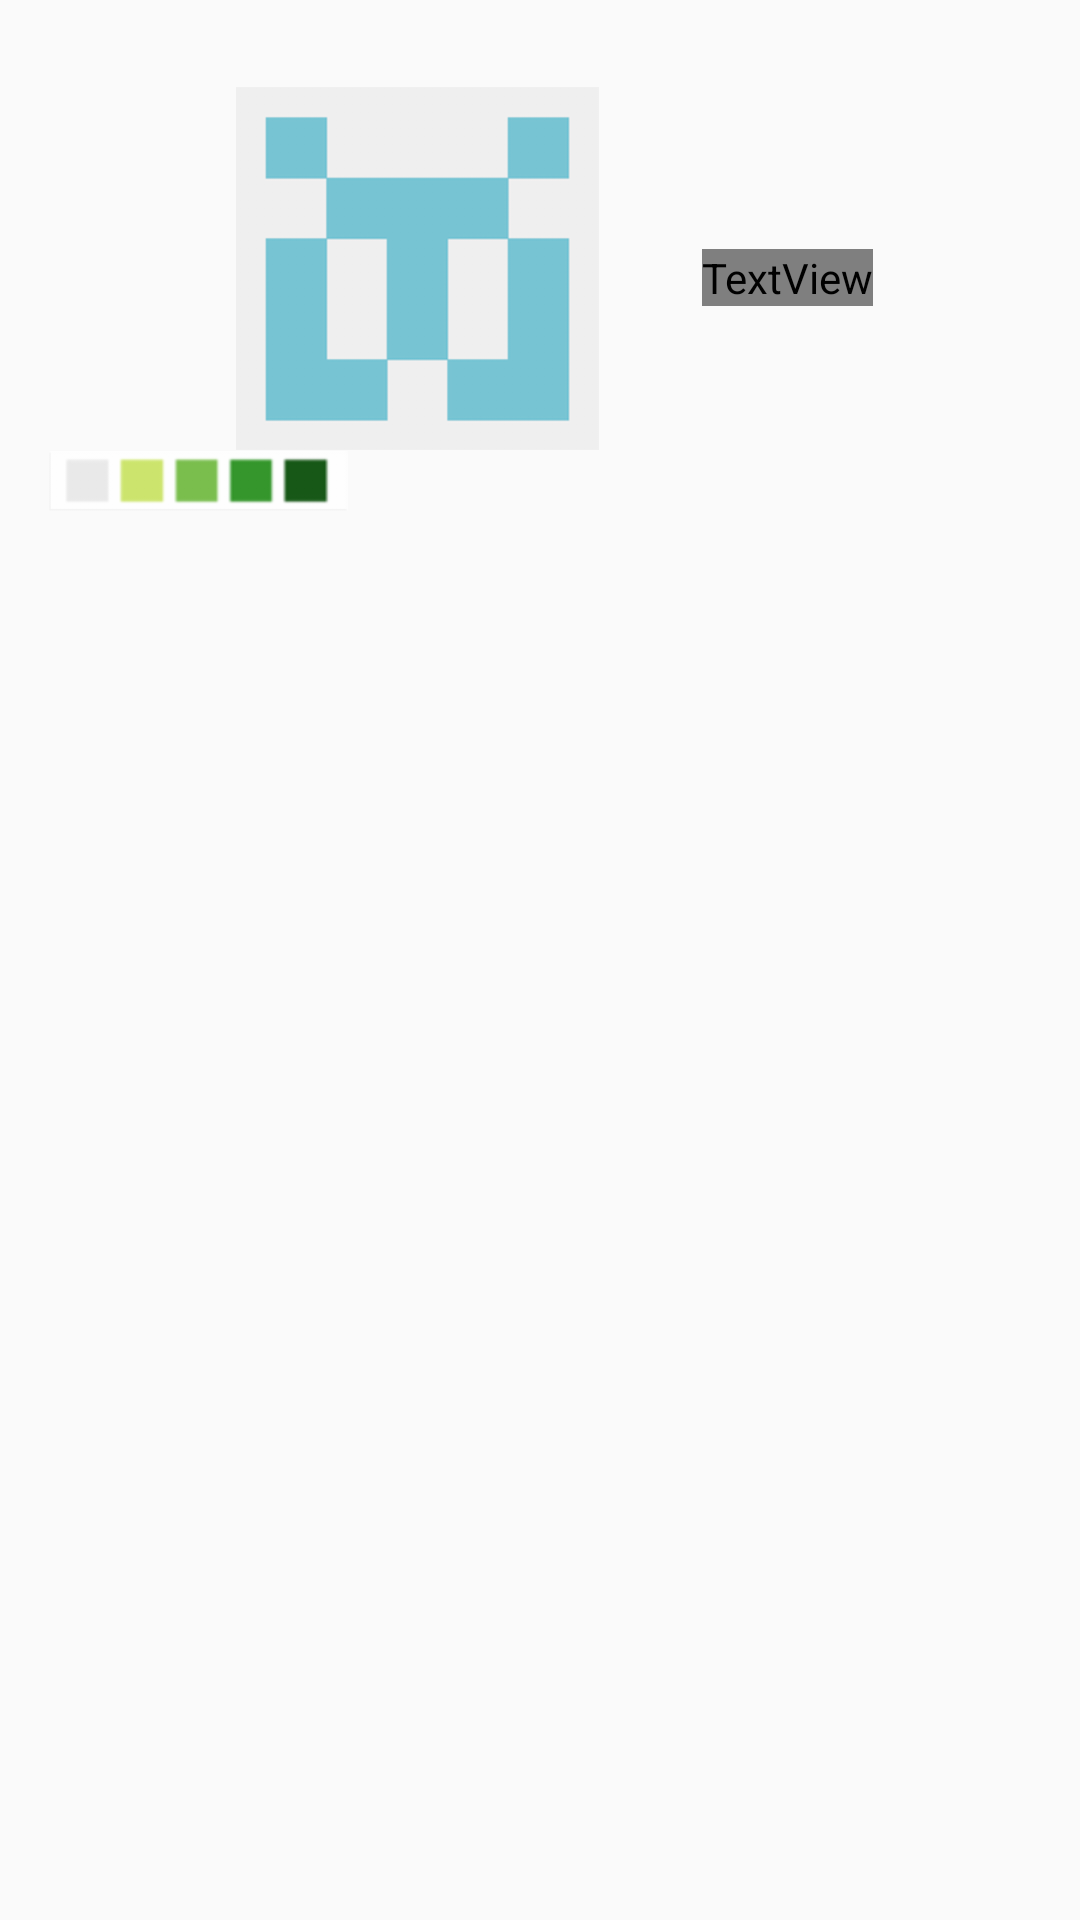

Screen size 1080w x 1920h. Icon name, then its box in pixels as (left=x1, top=y1, right=x2, bottom=y2):
profilepicture: (left=265, top=117, right=570, bottom=421)
